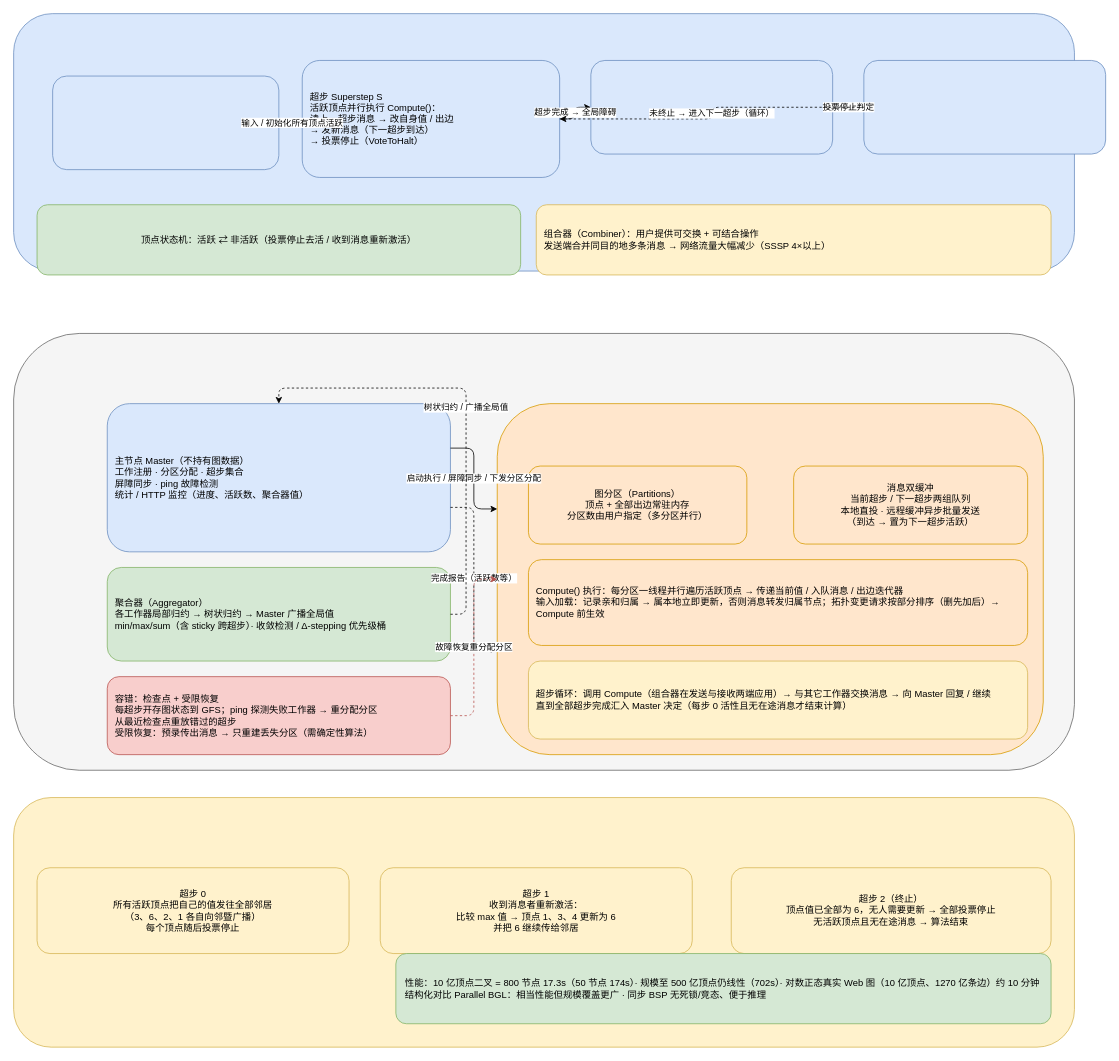
Some shapes in this 1119 by 1061 pixel diagram are drawn without their labels. Here are the shapes that lost their labels. From the top down, the box of each, then its label:
(52, 75, 279, 170): 输入有向图 Input Reader 加载任意格式记录 顶点按 hash(ID) mod N 分区
(590, 60, 833, 154): 全局同步栅栏 Barrier 所有工作器完成才进入下一超步 同步性消除死锁与数据竞争
(863, 60, 1106, 154): 终止判定 无活跃顶点 且 无在途消息 → 输出（VertexWriter 任意格式）
(13, 13, 1074, 271): 计算模型（BSP：大同步并行，千仞顶点为中心）
(13, 333, 1074, 770): 系统架构：主节点协调 + 工作节点分区计算（Google 集群，GFS/Bigtable 持久）
(496, 403, 1043, 755): 工作节点 ×N（Worker）
(13, 797, 1074, 1047): 算法的运行示例 — 传播最大值（paper 图 2：顶点值 3,6,2,1）
